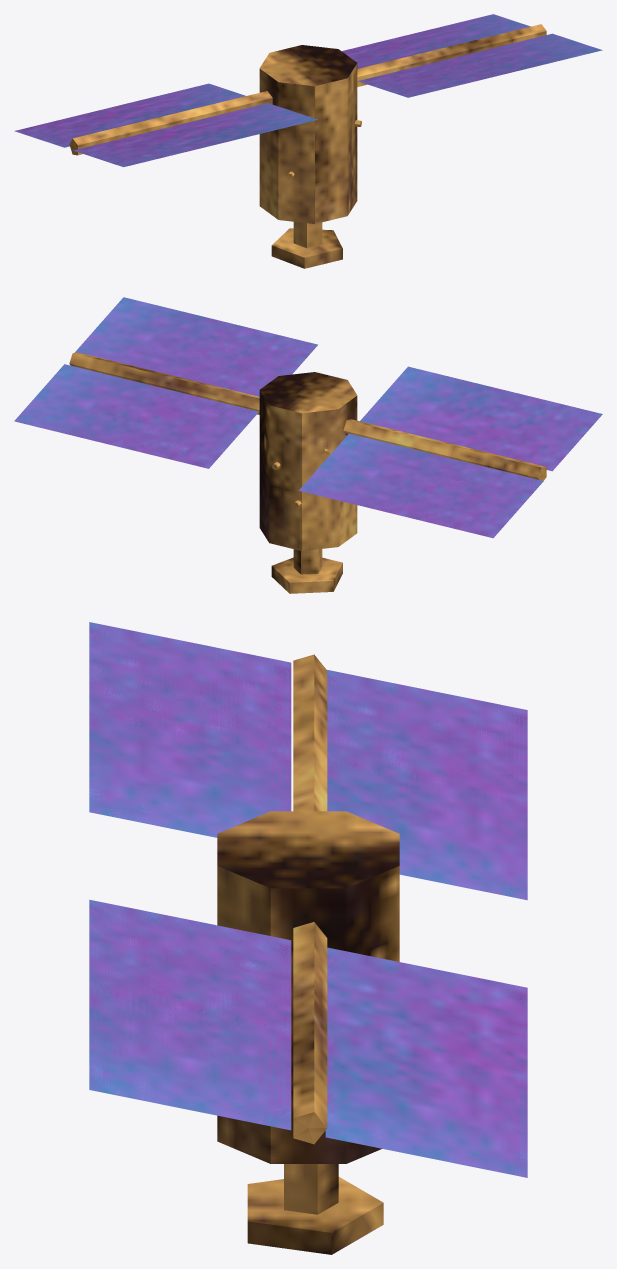
File: satalite.fbx
3 views of the same model, one above another, from view 1: azimuth 30°, elevation 25°; view 2: azimuth 150°, elevation 25°; view 3: azimuth 270°, elevation 25° (orthographic). The views are drawn at different scales.
Parts seen in each view (by area): view 1: main body, plane_2, plane_1, bar, plane_3, plane, cylinder_1, arm to lazer; view 2: main body, plane, plane_3, plane_2, plane_1, bar, cylinder_1, arm to lazer; view 3: plane_1, plane, plane_2, plane_3, main body, bar, cylinder_1, arm to lazer.
Boxes of the visible parts, x1,y1,x2,y2 form: main body: (259, 45, 357, 223); plane_2: (73, 103, 317, 167); plane_1: (358, 33, 602, 97); bar: (69, 24, 546, 155); plane_3: (14, 83, 245, 147); plane: (342, 14, 530, 68); cylinder_1: (271, 228, 342, 268); arm to lazer: (293, 221, 322, 248); main body: (259, 372, 357, 550); plane: (14, 364, 258, 468); plane_3: (298, 433, 543, 538); plane_2: (360, 366, 602, 471); plane_1: (74, 297, 317, 396); bar: (69, 352, 546, 480); cylinder_1: (271, 557, 342, 593); arm to lazer: (293, 549, 322, 574); plane_1: (89, 899, 291, 1130); plane: (325, 947, 527, 1177); plane_2: (89, 622, 291, 837); plane_3: (327, 670, 527, 900); main body: (217, 811, 399, 1163); bar: (293, 654, 327, 1144); cylinder_1: (247, 1177, 383, 1254); arm to lazer: (284, 1164, 338, 1214).
Bounding box in the file's own units: 9100 × 3600 × 3603.
2 materials, 2 textured.
